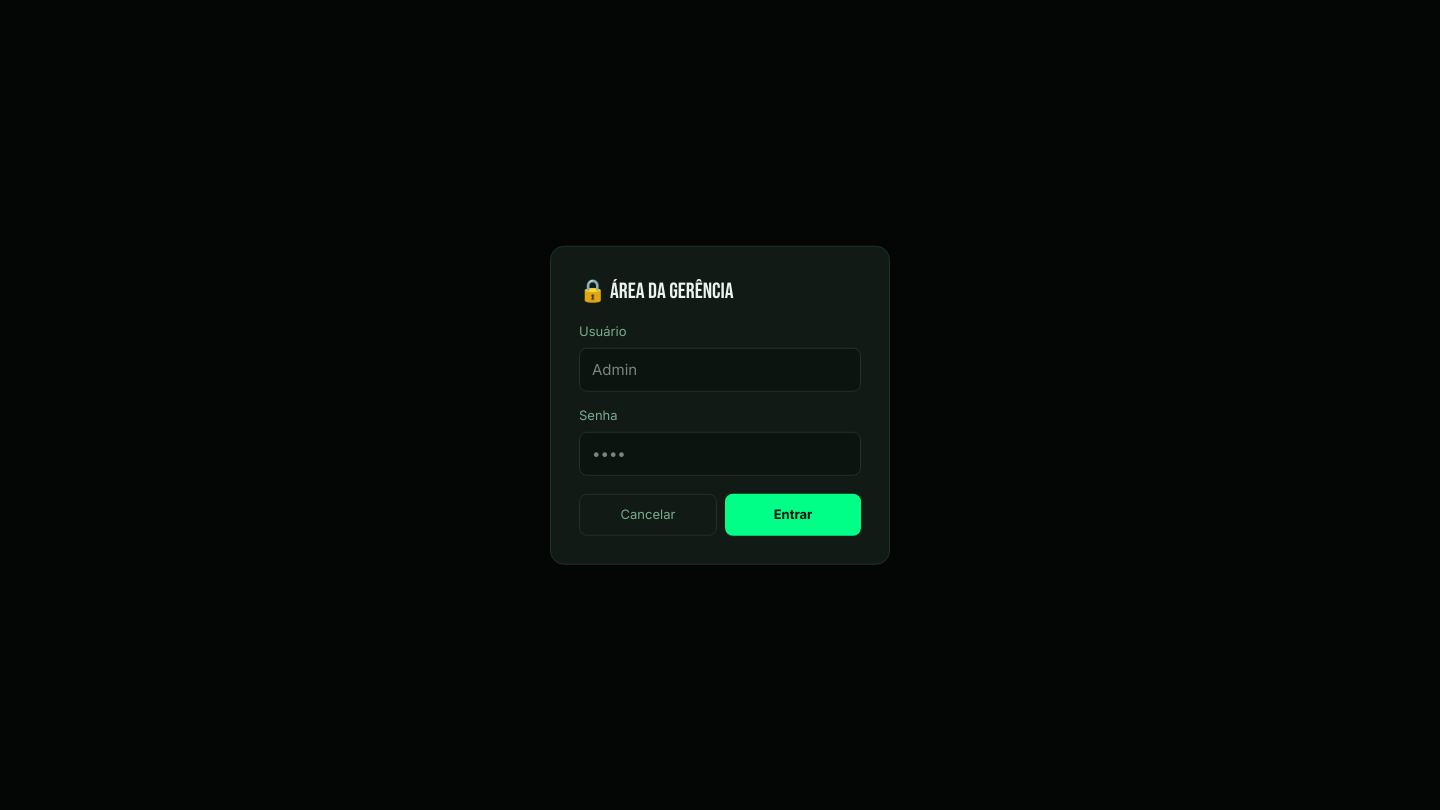
AdminGate › credenciais erradas não desbloqueiam e mostram erro
This screenshot has width=1440, height=810.
Type "errado" into the field labelled "Usuário". click: coordinates (720, 370)
box: [579,347,861,392]
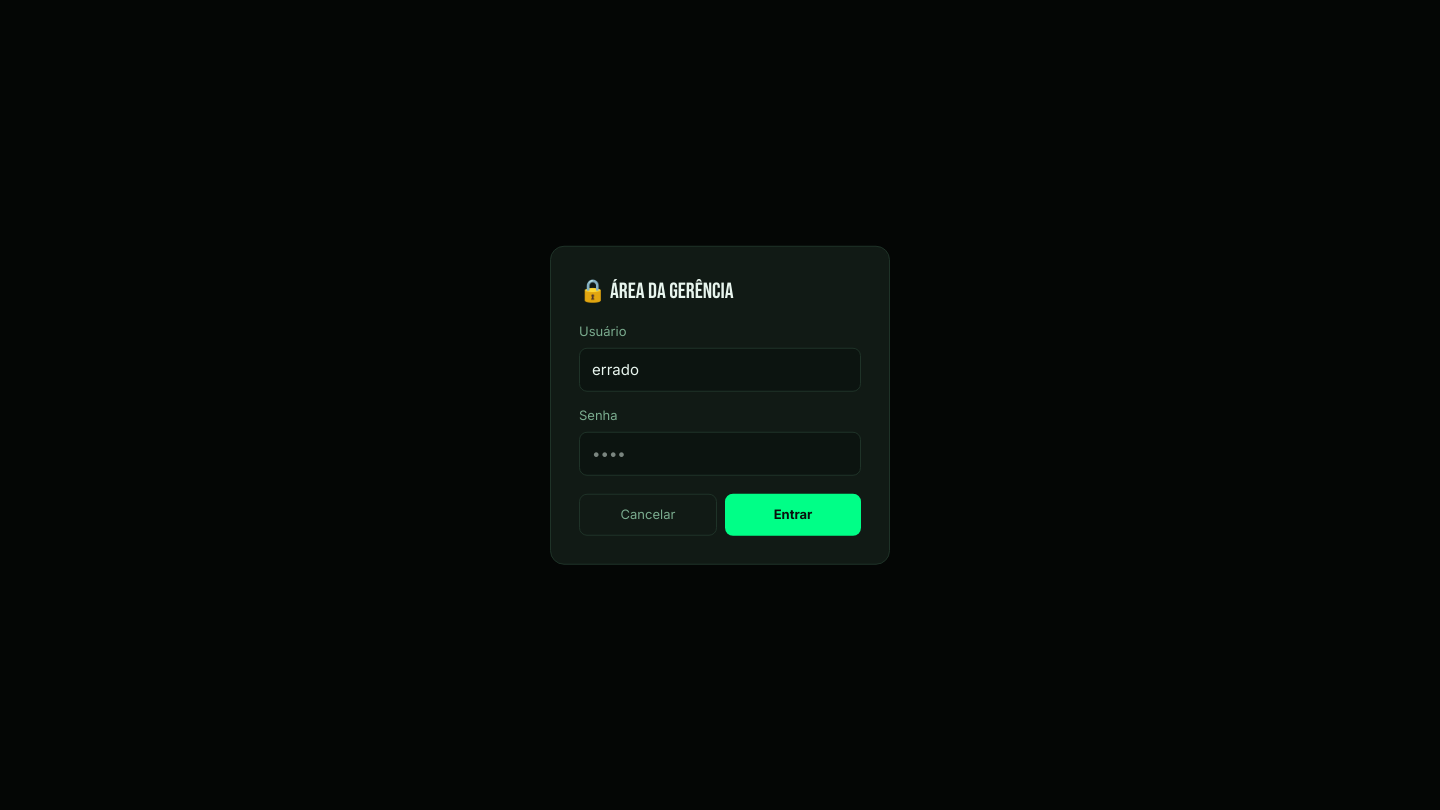
Type "errada" into the password field labelled "Senha". click: coordinates (720, 454)
box: [579,431,861,476]
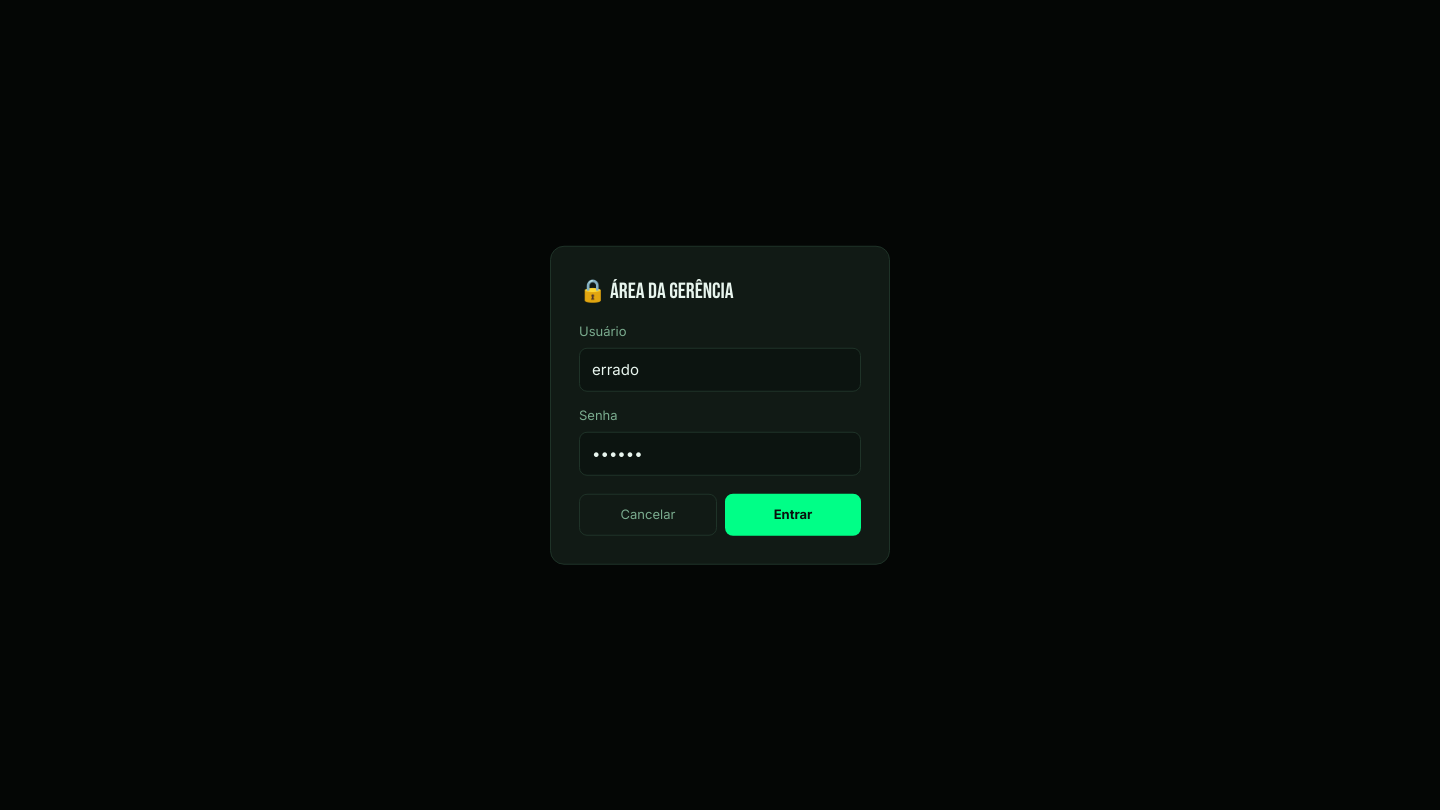
Click the button "Entrar". click: coordinates (793, 515)
box: [725,494,861,535]
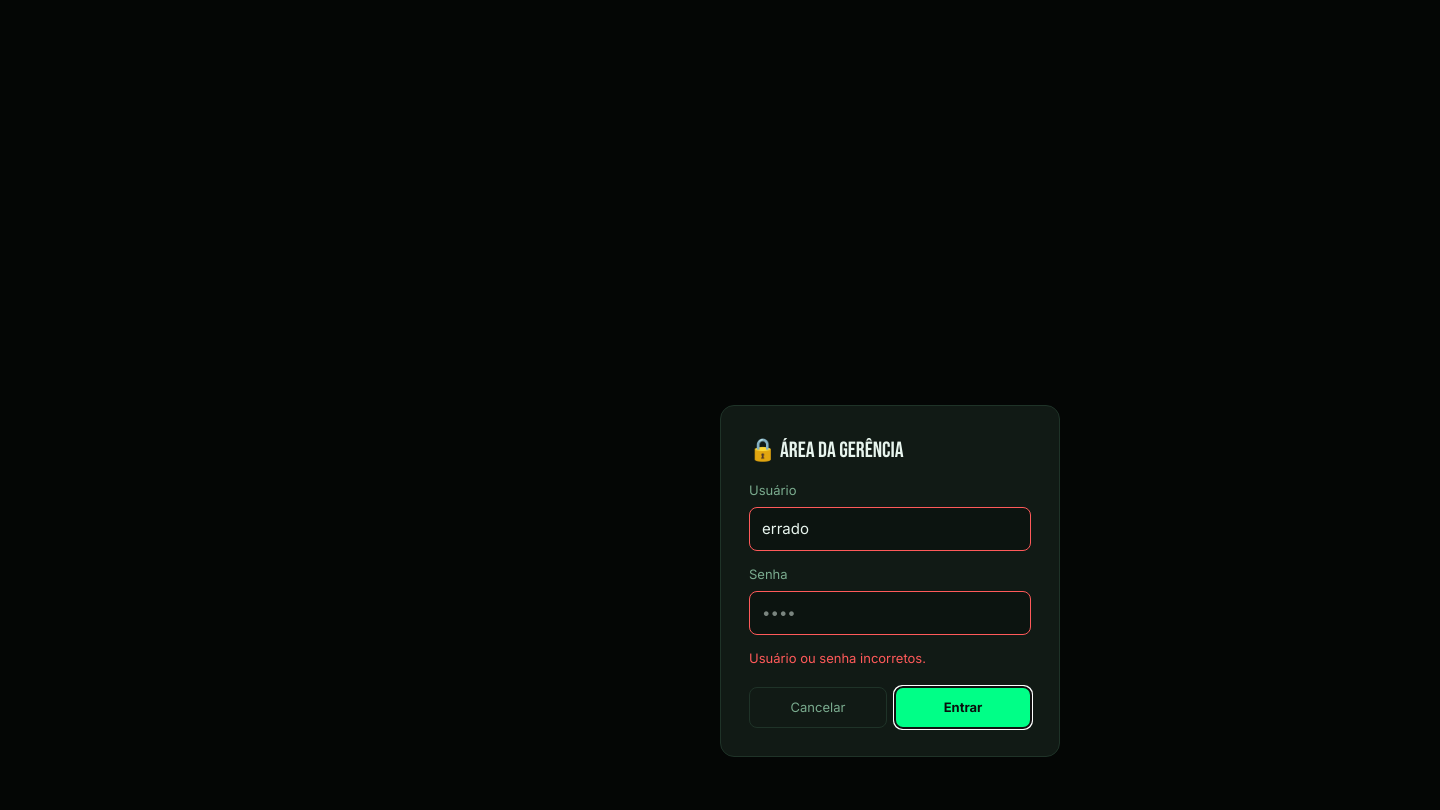
Expected: the text "Usuário ou senha incorretos." is shown, [749,650,926,666]
